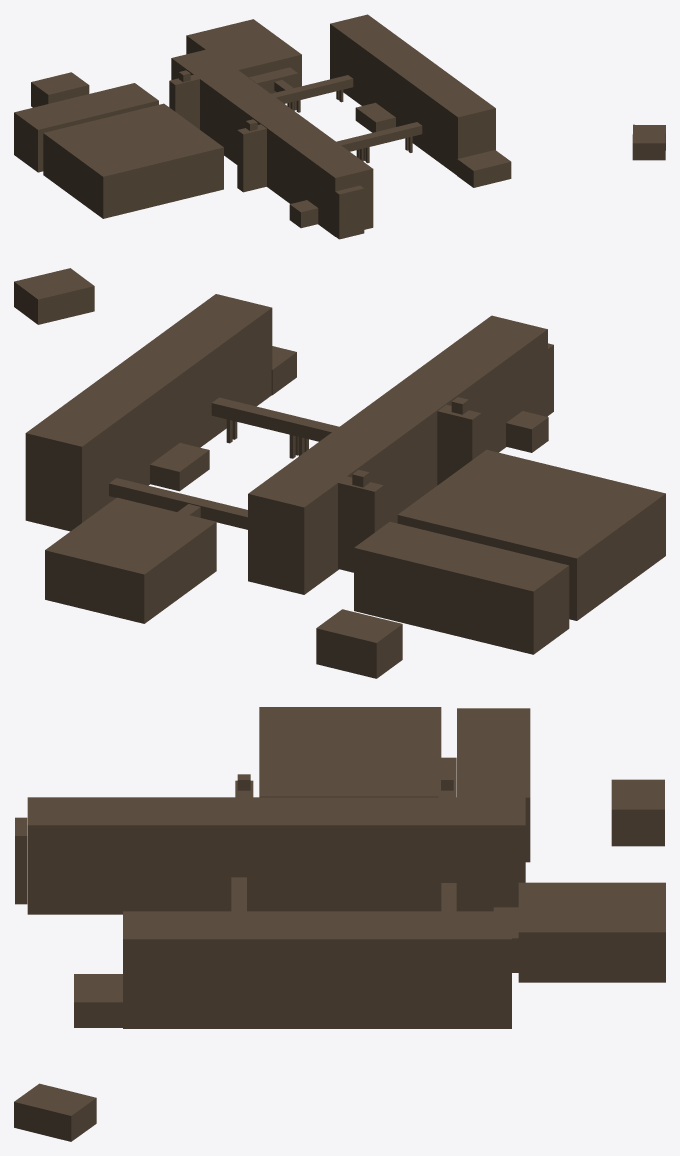
Rendered from koyo.obj.
3 renders of one model, top to bottom at view 1: azimuth 30°, elevation 25°; view 2: azimuth 150°, elevation 25°; view 3: azimuth 270°, elevation 25°, orthographic. The views are drawn at different scales.
Parts seen in each view (by area): view 1: 立方体.031, 立方体.001, 立方体.002, 立方体.030, 立方体.004, 立方体.012, 立方体.003, 立方体.011, 立方体.033, 立方体.013, 立方体.034, 立方体.006 (+4 smaller); view 2: 立方体.001, 立方体.002, 立方体.031, 立方体.030, 立方体.004, 立方体.033, 立方体.034, 立方体.013, 立方体.012, 立方体.005, 立方体.006, 立方体.010 (+2 smaller); view 3: 立方体.001, 立方体.002, 立方体.031, 立方体.004, 立方体.030, 立方体.033, 立方体.034, 立方体.003, 立方体.011.
Boxes of the visible parts, left/top/right/bottom form: 立方体.031: left=43, top=103, right=223, bottom=218; 立方体.001: left=171, top=49, right=373, bottom=236; 立方体.002: left=330, top=14, right=495, bottom=175; 立方体.030: left=14, top=83, right=158, bottom=172; 立方体.004: left=186, top=19, right=301, bottom=86; 立方体.012: left=237, top=124, right=266, bottom=192; 立方体.003: left=457, top=150, right=511, bottom=187; 立方体.011: left=335, top=185, right=364, bottom=239; 立方体.033: left=31, top=72, right=89, bottom=107; 立方体.013: left=169, top=74, right=199, bottom=129; 立方体.034: left=632, top=124, right=665, bottom=160; 立方体.006: left=336, top=122, right=422, bottom=151; 立方体.001: left=248, top=315, right=547, bottom=594; 立方体.002: left=25, top=294, right=272, bottom=531; 立方体.031: left=397, top=449, right=665, bottom=620; 立方体.030: left=354, top=521, right=569, bottom=654; 立方体.004: left=45, top=497, right=216, bottom=623; 立方体.033: left=316, top=609, right=402, bottom=678; 立方体.034: left=14, top=268, right=94, bottom=324; 立方体.013: left=338, top=476, right=383, bottom=572; 立方体.012: left=437, top=404, right=481, bottom=485; 立方体.005: left=109, top=478, right=247, bottom=529; 立方体.006: left=211, top=397, right=339, bottom=441; 立方体.010: left=150, top=443, right=209, bottom=491; 立方体.001: left=27, top=797, right=525, bottom=914; 立方体.002: left=123, top=911, right=511, bottom=1028; 立方体.031: left=259, top=707, right=441, bottom=797; 立方体.004: left=518, top=882, right=665, bottom=982; 立方体.030: left=457, top=708, right=530, bottom=862; 立方体.033: left=611, top=779, right=664, bottom=846; 立方体.034: left=14, top=1083, right=96, bottom=1141; 立方体.003: left=74, top=974, right=122, bottom=1027; 立方体.011: left=15, top=817, right=27, bottom=904.
Bounding box in the file's own units: 310 × 39.69 × 230.
